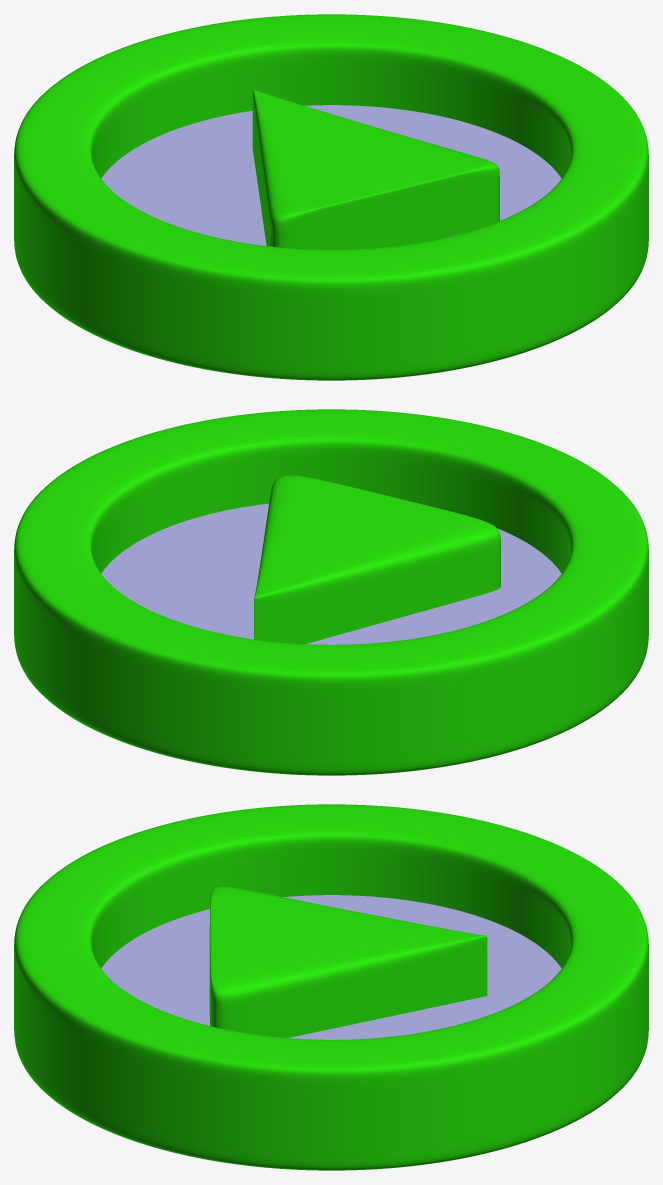
The model's file is strzalka3.gltf.
3 views of the same model, one above another, from view 1: azimuth 30°, elevation 25°; view 2: azimuth 150°, elevation 25°; view 3: azimuth 270°, elevation 25° (orthographic).
Visible parts, largest first — view 1: Cube; view 2: Cube; view 3: Cube.
Part boxes in pixels (left/top/right/bottom): Cube: left=14, top=14, right=648, bottom=380; Cube: left=14, top=409, right=648, bottom=775; Cube: left=14, top=804, right=648, bottom=1170.
Size of the model in its own units: 4.57 by 0.8402 by 4.57.
